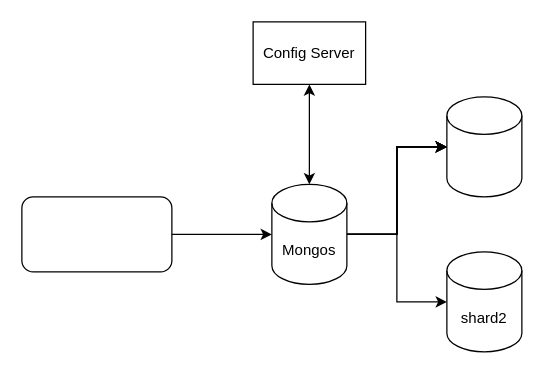
Some shapes in this 544 by 374 pixel diagram are drawn without their labels. Here are the shapes that lost their labels. From the top down, the centre of each, then its label:
the point at 484,146: shard1
the point at 96,234: pymongo-api
